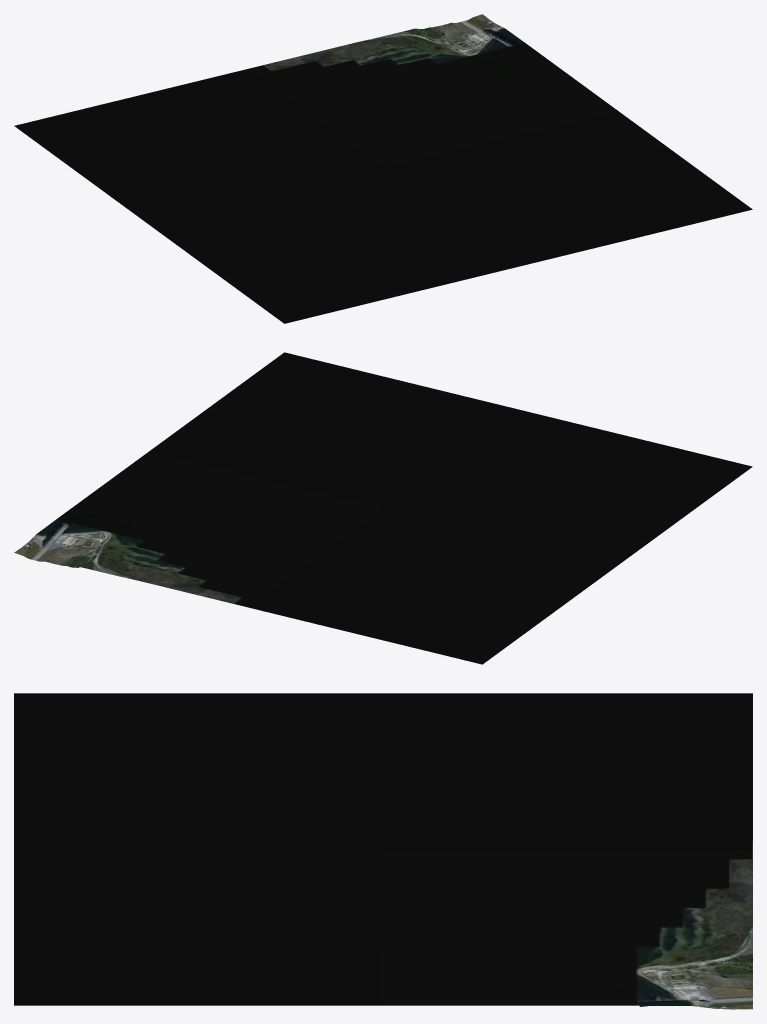
Rendered from map_10_248_421.dae.
3 views of the same model, one above another, from view 1: azimuth 30°, elevation 25°; view 2: azimuth 150°, elevation 25°; view 3: azimuth 270°, elevation 25° (orthographic). The views are drawn at different scales.
Parts seen in each view (by area): view 1: Ter0; view 2: Ter0; view 3: Ter0.
Boxes of the visible parts, x1,y1,x2,y2 form: Ter0: [14, 14, 752, 323]; Ter0: [14, 352, 752, 664]; Ter0: [14, 693, 752, 1009].
Size of the model in its own units: 2044 by 2044 by 23.76.
3 materials, 3 textured.
